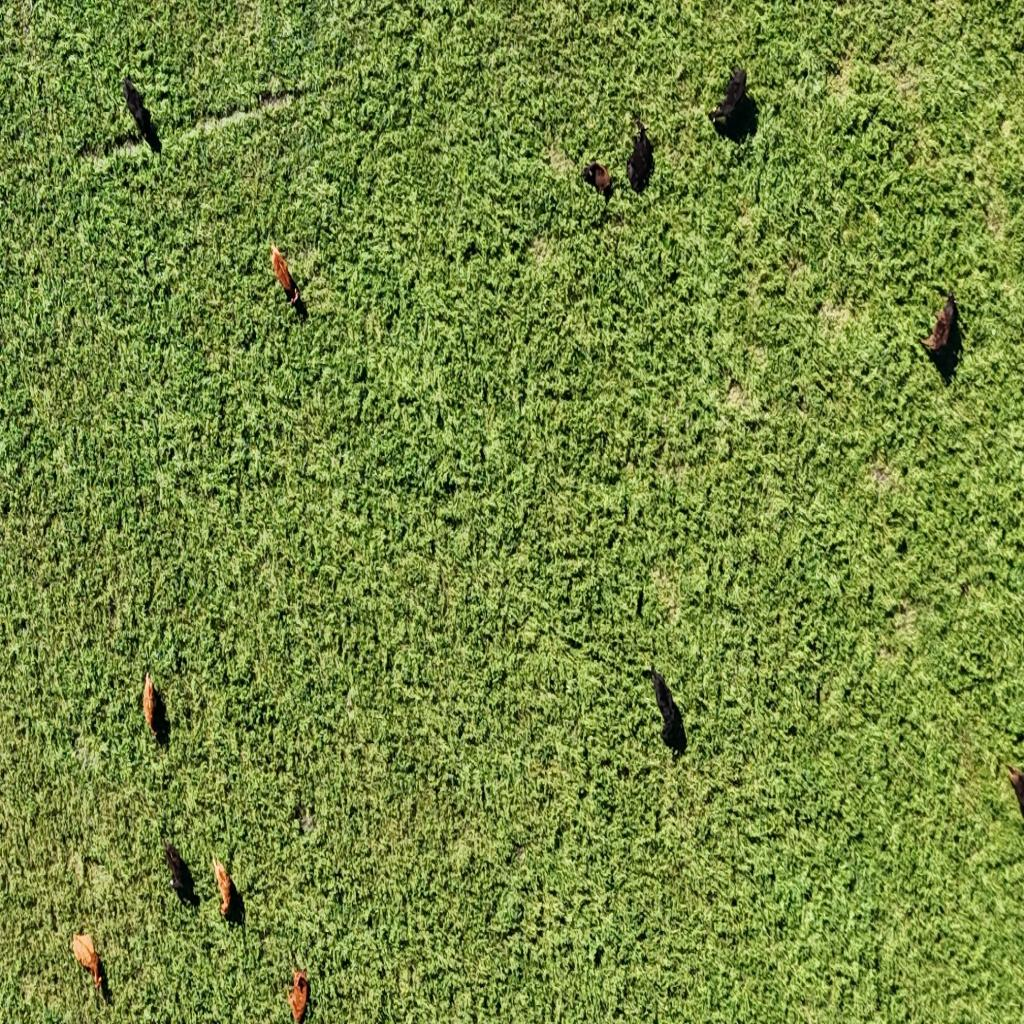cow: (709, 65, 749, 137), (918, 288, 958, 358), (120, 74, 154, 144), (646, 667, 678, 736), (162, 840, 194, 906), (268, 240, 300, 306), (70, 929, 104, 991), (141, 664, 167, 742), (626, 124, 654, 194), (211, 854, 237, 920), (582, 159, 613, 201), (287, 968, 309, 1024), (1011, 764, 1024, 827)
